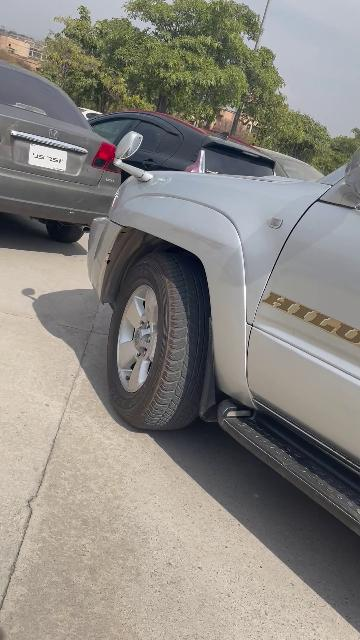plate: (26, 143, 69, 172)
